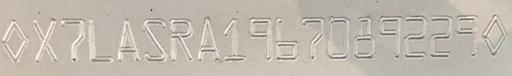letter: (192, 11, 226, 65), (28, 13, 62, 63), (166, 13, 198, 65), (111, 14, 143, 62), (245, 13, 275, 63), (271, 16, 303, 62), (427, 12, 457, 60), (374, 14, 404, 62), (84, 15, 114, 63), (140, 15, 170, 63), (453, 10, 481, 58), (298, 14, 326, 62), (60, 16, 88, 64), (324, 14, 350, 64), (402, 13, 428, 61), (350, 14, 376, 62), (222, 16, 248, 64)
